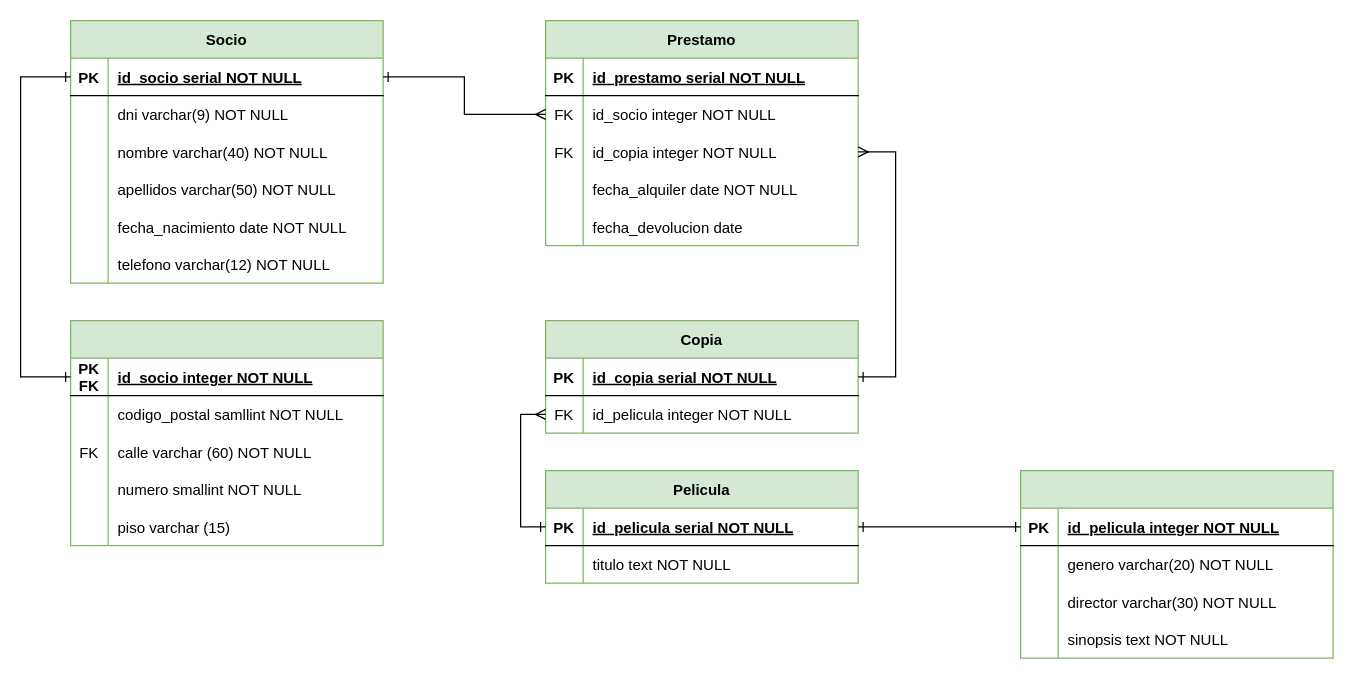
The diagram is 1354 pixels wide and 679 high, and some of its shapes have lost their labels. The box of each missing label's shape, as (x1, y1, x2, y2) in pixels:
Correspondencia: (69, 319, 383, 546)
Informacion: (1019, 469, 1333, 658)
